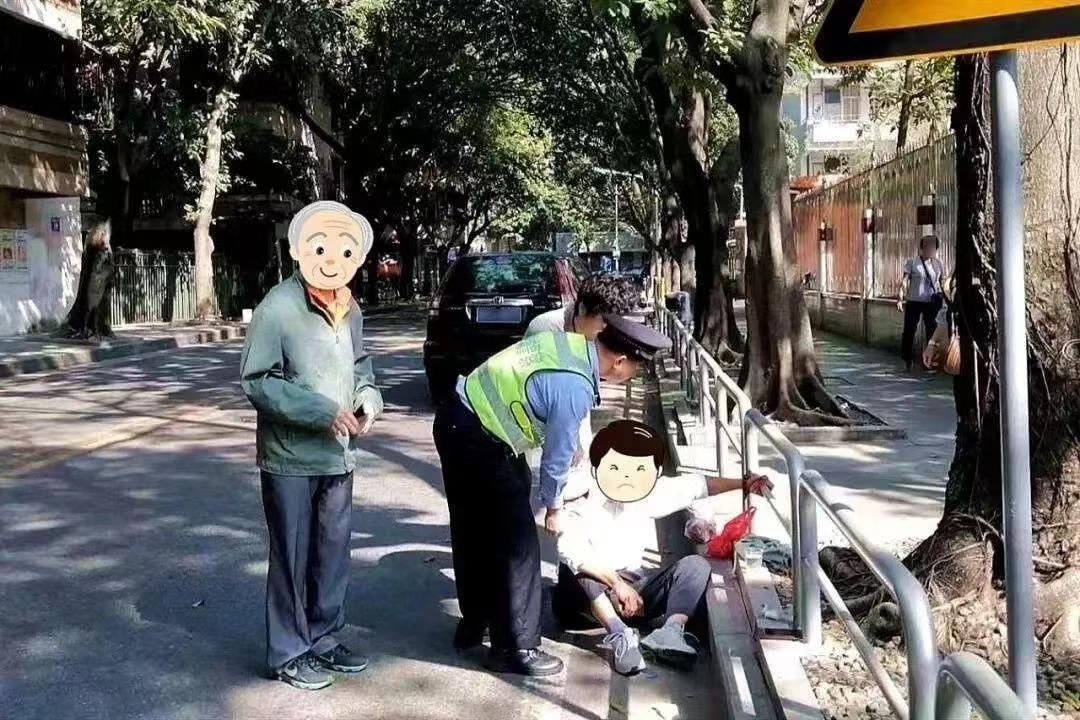bending: (418, 317, 633, 687), (550, 455, 759, 681)
up: (233, 216, 381, 695), (887, 227, 955, 380)
